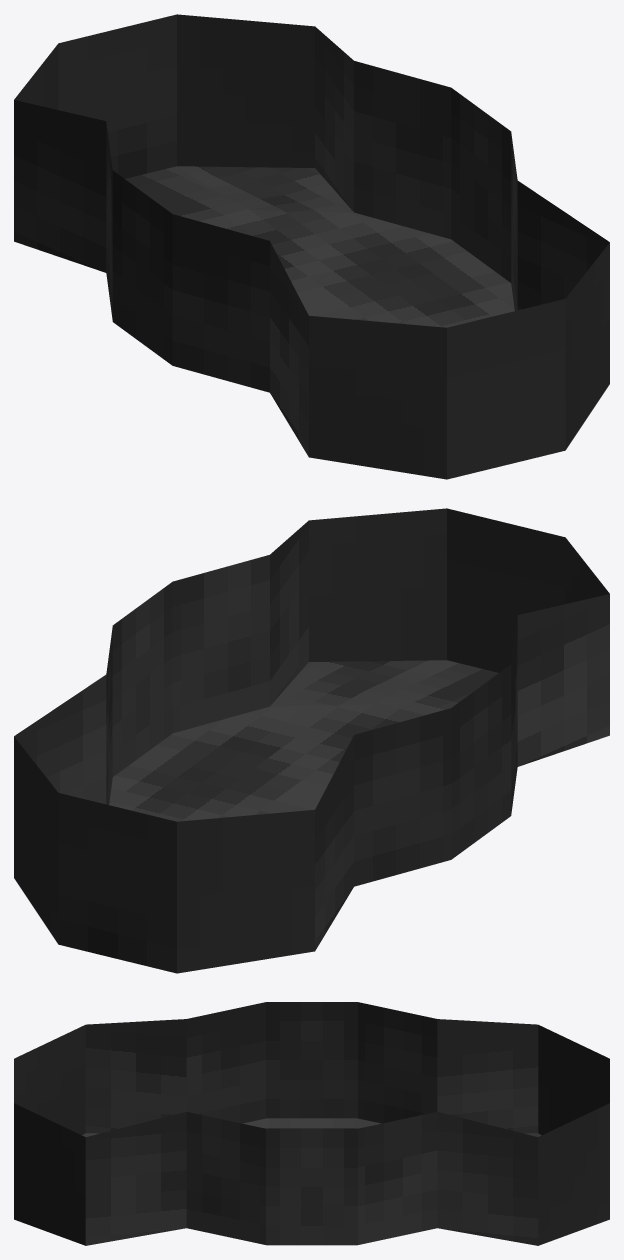
The model's file is MDL_CeilingCentrePiece.glb.
3 renders of one model, top to bottom at view 1: azimuth 30°, elevation 25°; view 2: azimuth 150°, elevation 25°; view 3: azimuth 270°, elevation 25°, orthographic. The views are drawn at different scales.
Parts seen in each view (by area): view 1: CeilingCentrePiece; view 2: CeilingCentrePiece; view 3: CeilingCentrePiece.
Boxes of the visible parts, box(x1,y1,x2,y2) form: CeilingCentrePiece: box(14, 14, 609, 479); CeilingCentrePiece: box(14, 508, 609, 973); CeilingCentrePiece: box(14, 1002, 609, 1245).
Size of the model in its own units: 0.4375 by 0.2125 by 0.8697.
Materials: 1 (1 with a texture image).
